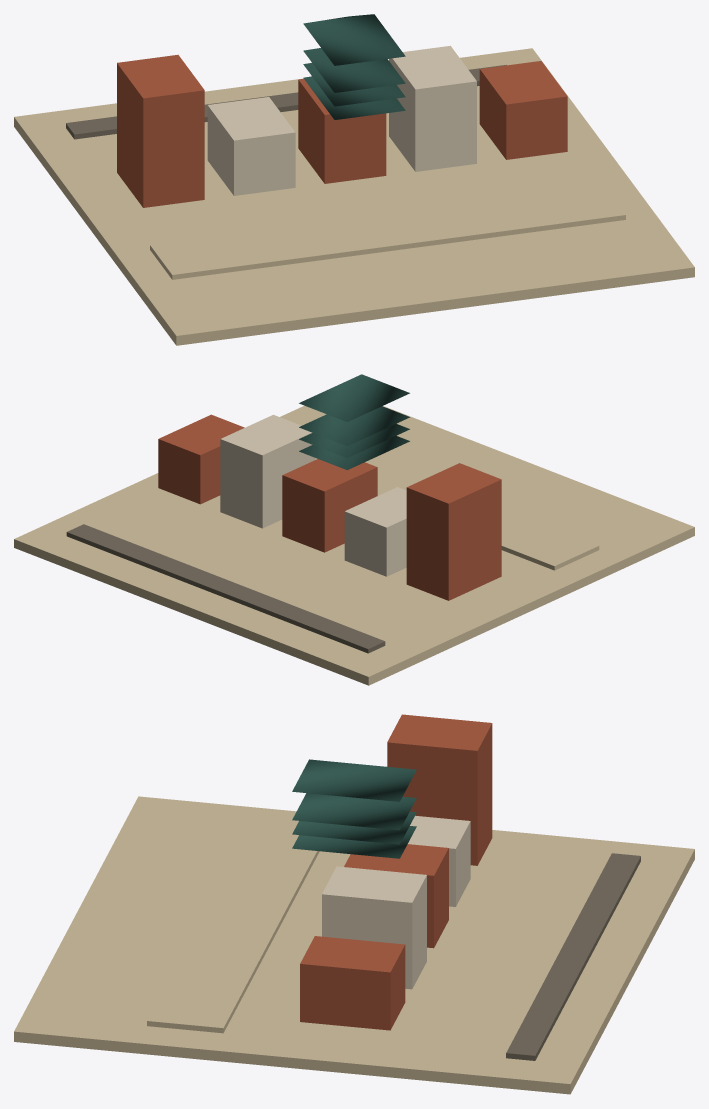
Rendered from model-medium.glb.
3 renders of one model, top to bottom at view 1: azimuth 30°, elevation 25°; view 2: azimuth 150°, elevation 25°; view 3: azimuth 270°, elevation 25°, orthographic. The views are drawn at different scales.
Parts seen in each view (by area): view 1: context_site_plinth, street_public_axis, street_facade_0, street_facade_3, street_facade_1, street_facade_4, street_facade_2, street_roof_0, street_roof_3, front_scale_strip, street_roof_2, street_roof_1; view 2: context_site_plinth, street_facade_0, street_facade_3, street_facade_2, front_scale_strip, street_facade_4, street_facade_1, street_public_axis, street_roof_0, street_roof_3, street_roof_1, street_roof_2; view 3: context_site_plinth, street_public_axis, street_facade_0, street_facade_4, street_facade_3, front_scale_strip, street_roof_0, street_facade_2, street_roof_3, street_facade_1, street_roof_1, street_roof_2.
Boxes of the visible parts, x1,y1,x2,y2 form: context_site_plinth: (14, 48, 694, 345); street_public_axis: (150, 185, 625, 279); street_facade_0: (117, 54, 204, 207); street_facade_3: (389, 45, 476, 171); street_facade_1: (207, 97, 295, 195); street_facade_4: (479, 61, 567, 159); street_facade_2: (298, 78, 386, 183); street_roof_0: (303, 14, 405, 65); street_roof_3: (303, 48, 405, 92); front_scale_strip: (66, 64, 506, 139); street_roof_2: (303, 63, 405, 106); street_roof_1: (303, 76, 405, 119); context_site_plinth: (14, 405, 694, 685); street_facade_0: (406, 463, 501, 600); street_facade_3: (220, 414, 315, 528); street_facade_2: (282, 459, 377, 552); front_scale_strip: (66, 524, 385, 653); street_facade_4: (158, 414, 244, 504); street_facade_1: (344, 487, 406, 576); street_public_axis: (315, 458, 599, 570); street_roof_0: (299, 374, 409, 421); street_roof_3: (299, 406, 409, 446); street_roof_1: (299, 435, 409, 470); street_roof_2: (299, 423, 409, 458); context_site_plinth: (14, 796, 694, 1094); street_public_axis: (147, 815, 319, 1033); street_facade_0: (387, 714, 492, 865); street_facade_4: (300, 936, 405, 1030); street_facade_3: (322, 866, 426, 989); front_scale_strip: (506, 853, 640, 1060); street_roof_0: (292, 759, 416, 801); street_facade_2: (344, 844, 448, 948); street_roof_3: (292, 793, 416, 830); street_facade_1: (408, 815, 470, 906); street_roof_1: (292, 826, 416, 858); street_roof_2: (292, 811, 416, 844).
Bounding box in the file's own units: 9.55 × 2.89 × 9.55.
